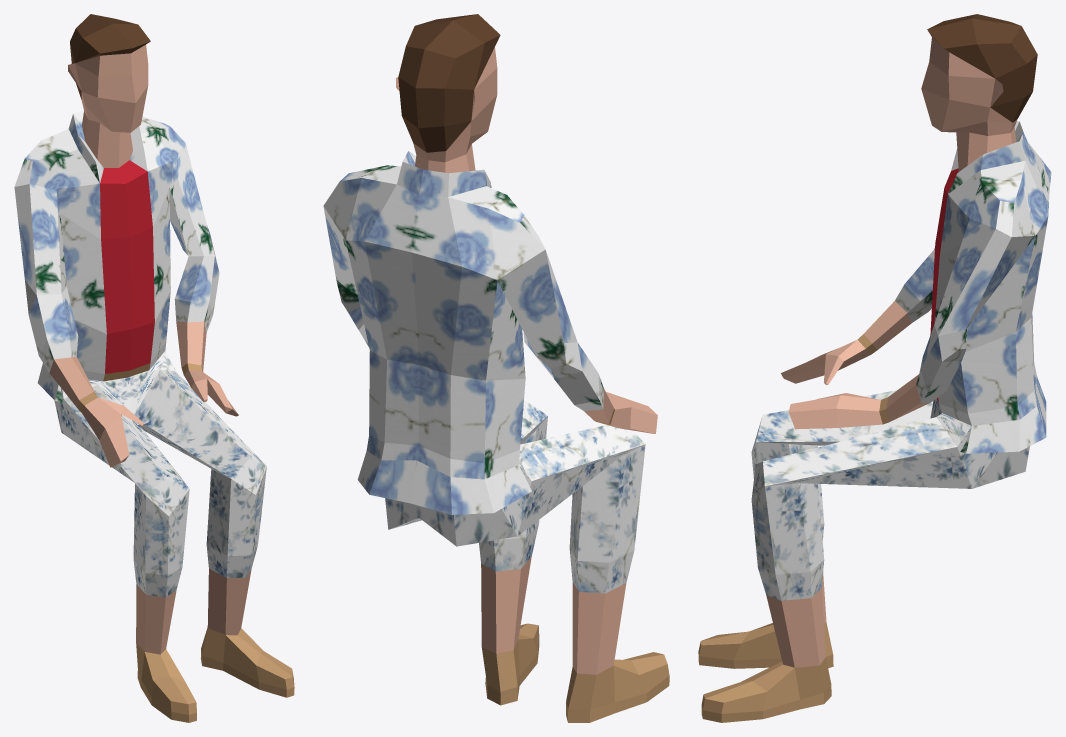
The model's file is SpringManC.009.glb.
3 views of the same model, side by side, from view 1: azimuth 30°, elevation 25°; view 2: azimuth 150°, elevation 25°; view 3: azimuth 270°, elevation 25° (orthographic). The views are drawn at different scales.
Visible parts, largest first — view 1: SpringManC.010; view 2: SpringManC.010; view 3: SpringManC.010.
Part boxes in pixels (x1=…): SpringManC.010: x1=14, y1=14, x2=294, y2=722; SpringManC.010: x1=323, y1=14, x2=669, y2=722; SpringManC.010: x1=698, y1=14, x2=1051, y2=722.
Size of the model in its own units: 0.4569 by 1.37 by 0.6586.
1 material, 1 textured.
